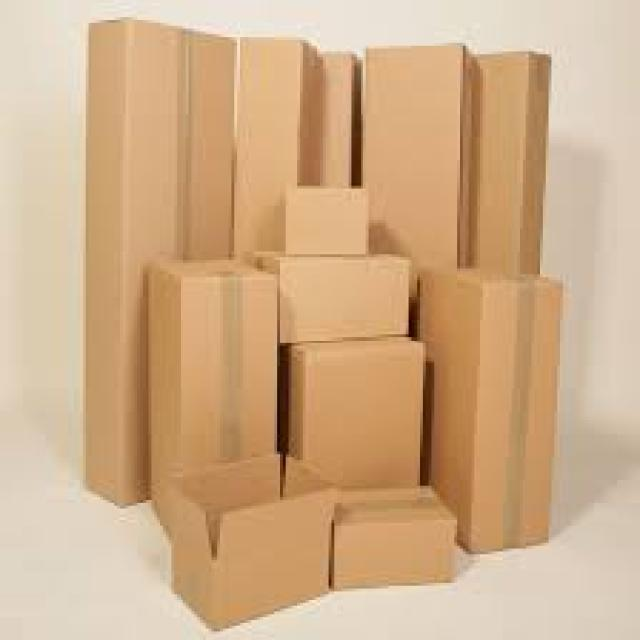Cardboard: (149, 250, 277, 475), (173, 460, 342, 625), (294, 335, 422, 481), (331, 484, 454, 583), (283, 253, 405, 339), (284, 188, 367, 256)
